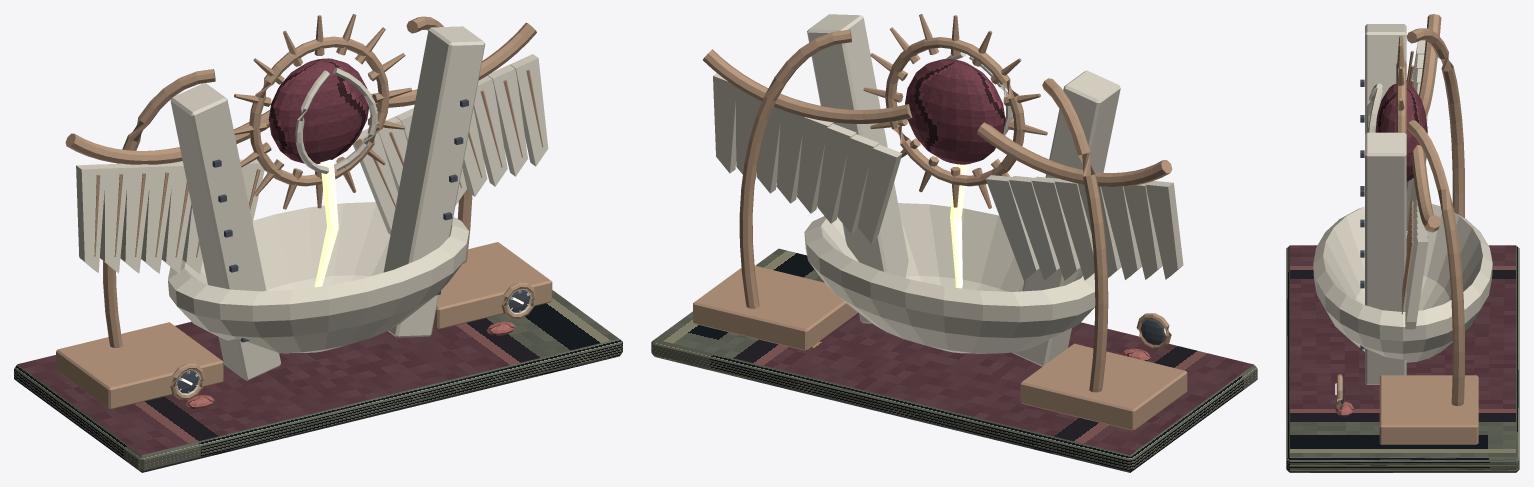
File: foundry_solar_crucible.glb
3 views of the same model, side by side, from view 1: azimuth 30°, elevation 25°; view 2: azimuth 150°, elevation 25°; view 3: azimuth 270°, elevation 25° (orthographic). The views are drawn at different scales.
Visible parts, largest first — view 1: foundry_solar_crucible_warm, foundry_solar_crucible_petrol, foundry_solar_crucible_worn, foundry_solar_crucible_bruised, foundry_solar_crucible_sick, foundry_solar_crucible_deep, foundry_solar_crucible_suture; view 2: foundry_solar_crucible_warm, foundry_solar_crucible_worn, foundry_solar_crucible_petrol, foundry_solar_crucible_bruised, foundry_solar_crucible_sick; view 3: foundry_solar_crucible_petrol, foundry_solar_crucible_warm, foundry_solar_crucible_worn, foundry_solar_crucible_bruised, foundry_solar_crucible_deep.
Part boxes in pixels (bbox=[...]): foundry_solar_crucible_warm: bbox=[76, 26, 548, 395]; foundry_solar_crucible_petrol: bbox=[14, 290, 622, 472]; foundry_solar_crucible_worn: bbox=[56, 14, 552, 409]; foundry_solar_crucible_bruised: bbox=[268, 58, 368, 163]; foundry_solar_crucible_sick: bbox=[181, 159, 523, 385]; foundry_solar_crucible_deep: bbox=[175, 99, 529, 393]; foundry_solar_crucible_suture: bbox=[185, 321, 515, 408]; foundry_solar_crucible_warm: bbox=[713, 14, 1183, 366]; foundry_solar_crucible_worn: bbox=[693, 14, 1187, 430]; foundry_solar_crucible_petrol: bbox=[651, 248, 1257, 472]; foundry_solar_crucible_bruised: bbox=[905, 59, 1005, 164]; foundry_solar_crucible_sick: bbox=[950, 164, 968, 288]; foundry_solar_crucible_petrol: bbox=[1286, 245, 1519, 472]; foundry_solar_crucible_warm: bbox=[1313, 24, 1492, 402]; foundry_solar_crucible_worn: bbox=[1336, 14, 1478, 444]; foundry_solar_crucible_bruised: bbox=[1375, 83, 1427, 181]; foundry_solar_crucible_deep: bbox=[1341, 79, 1364, 403].
Size of the model in its own units: 7.4 by 5.17 by 3.4.
Materials: 7 (3 with a texture image).
